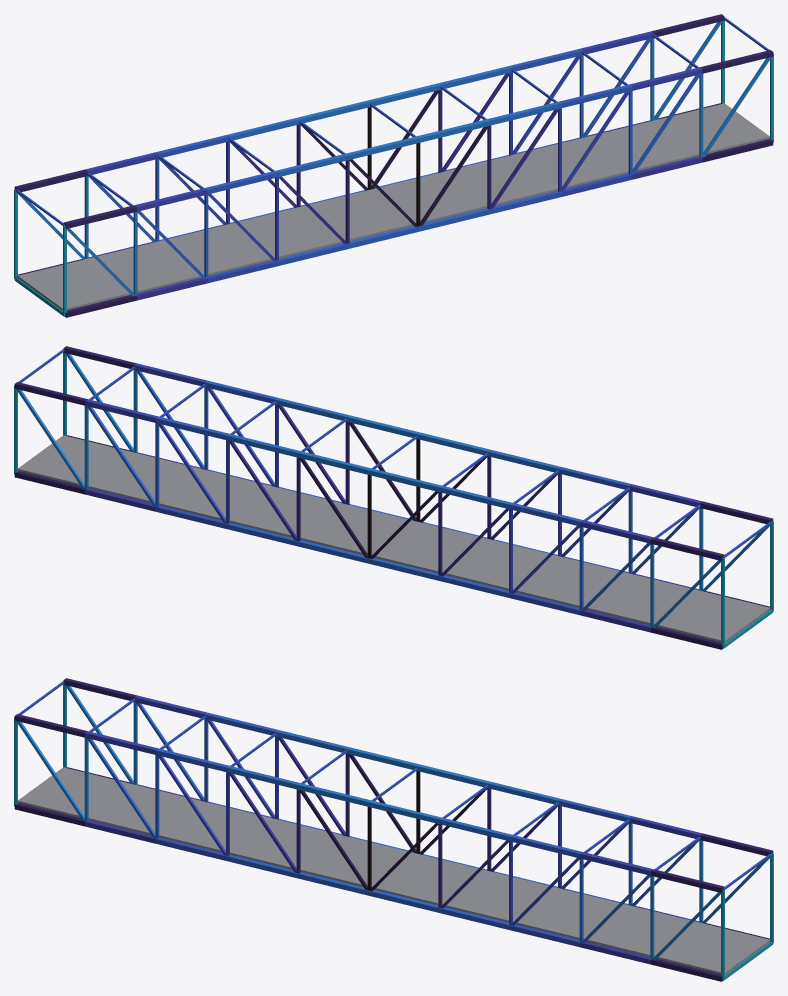
Rendered from 25_3_10_HEA240.glb.
3 renders of one model, top to bottom at view 1: azimuth 30°, elevation 25°; view 2: azimuth 150°, elevation 25°; view 3: azimuth 330°, elevation 25°, orthographic.
Size of the model in its own units: 25.09 by 3.16 by 3.16.
